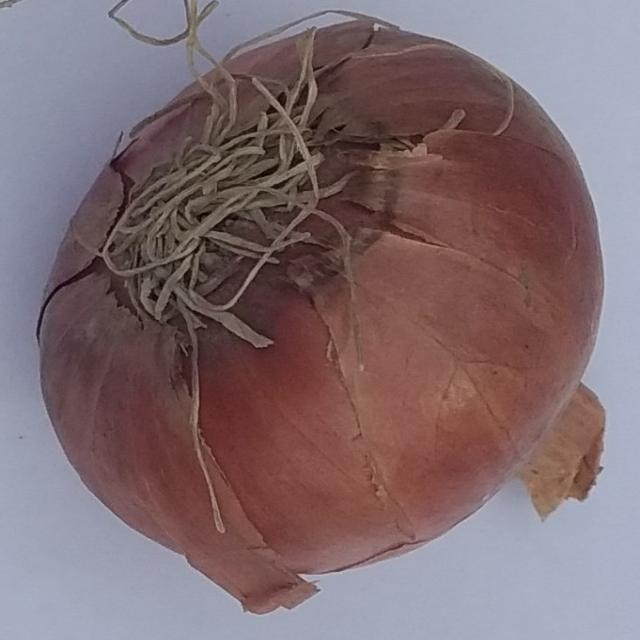onion: (35, 0, 608, 613)
